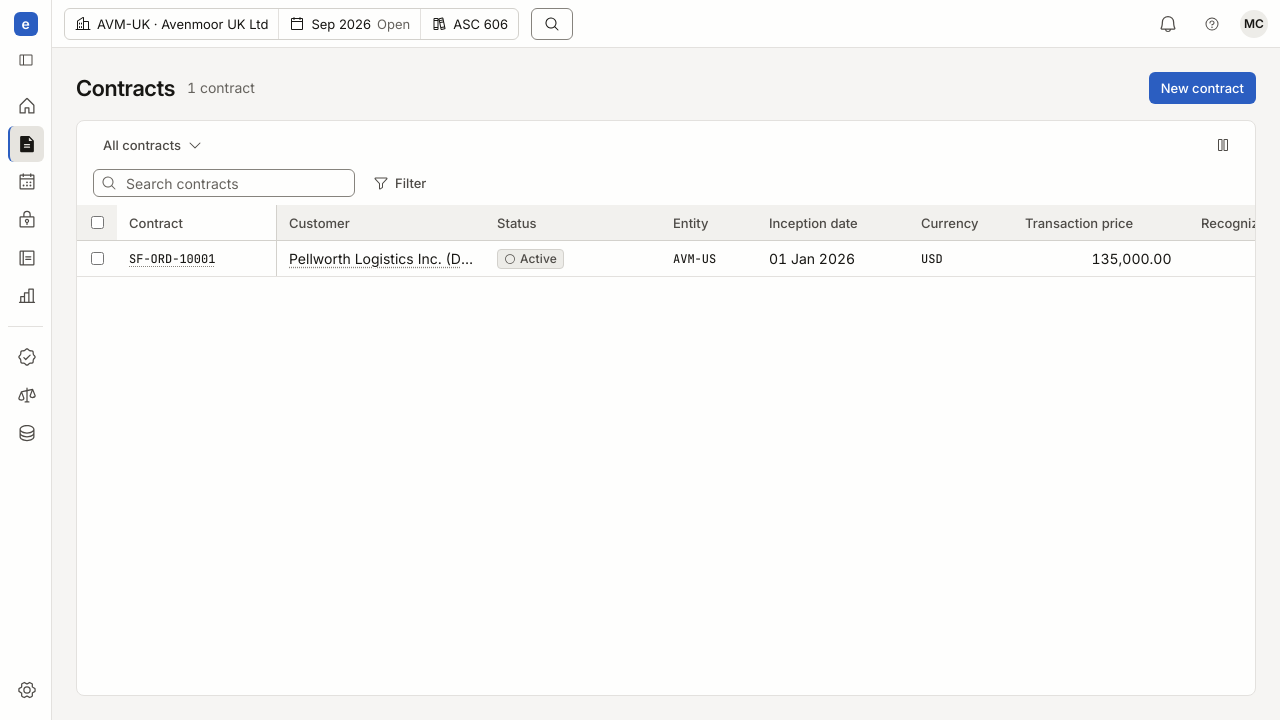
Test: SF-02 contracts list › the Status editor with one value writes f.status=is:ACTIVE and requests status=ACTIVE
Check: the element "SF-ORD-10001" is shown, box [117,241,277,276]
What coordinates should you click on to do the following:
click the button "Filter"
I would click on:
 (400, 183)
Its box is [363,169,436,197].
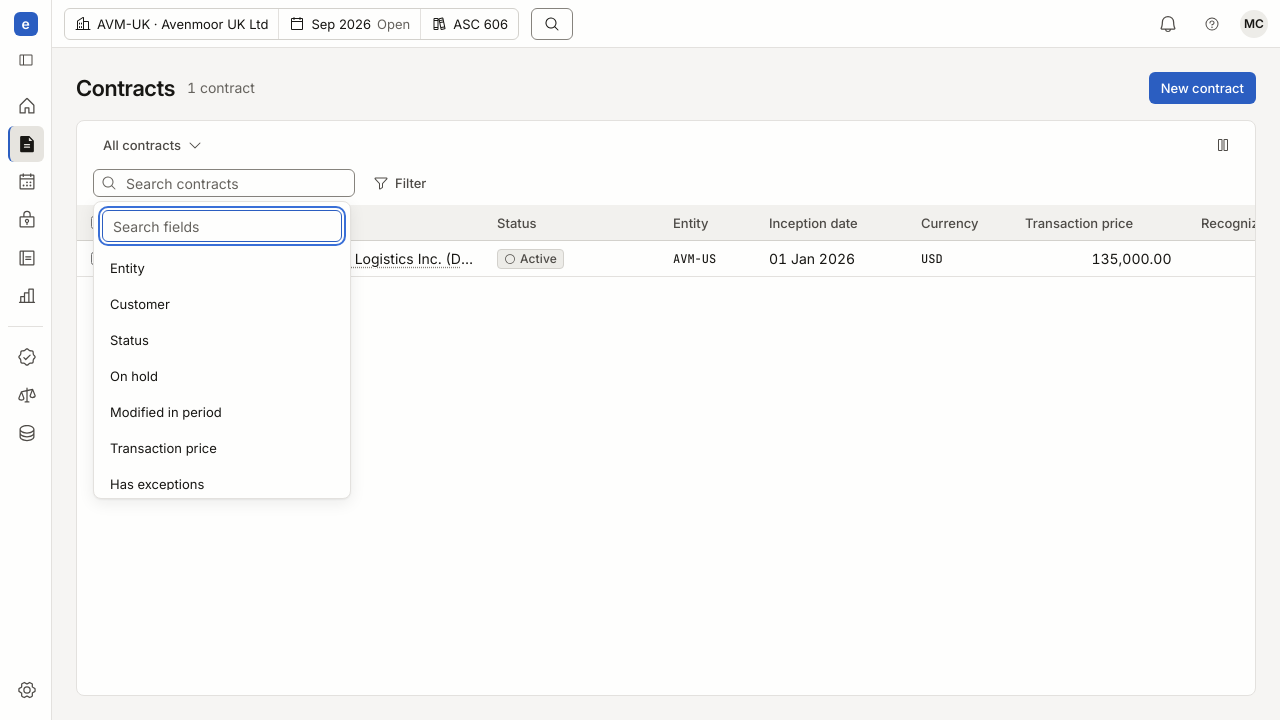
What coordinates should you click on to do the following:
click the button "Status"
I would click on:
 (222, 340)
Its box is [102,322,342,358].
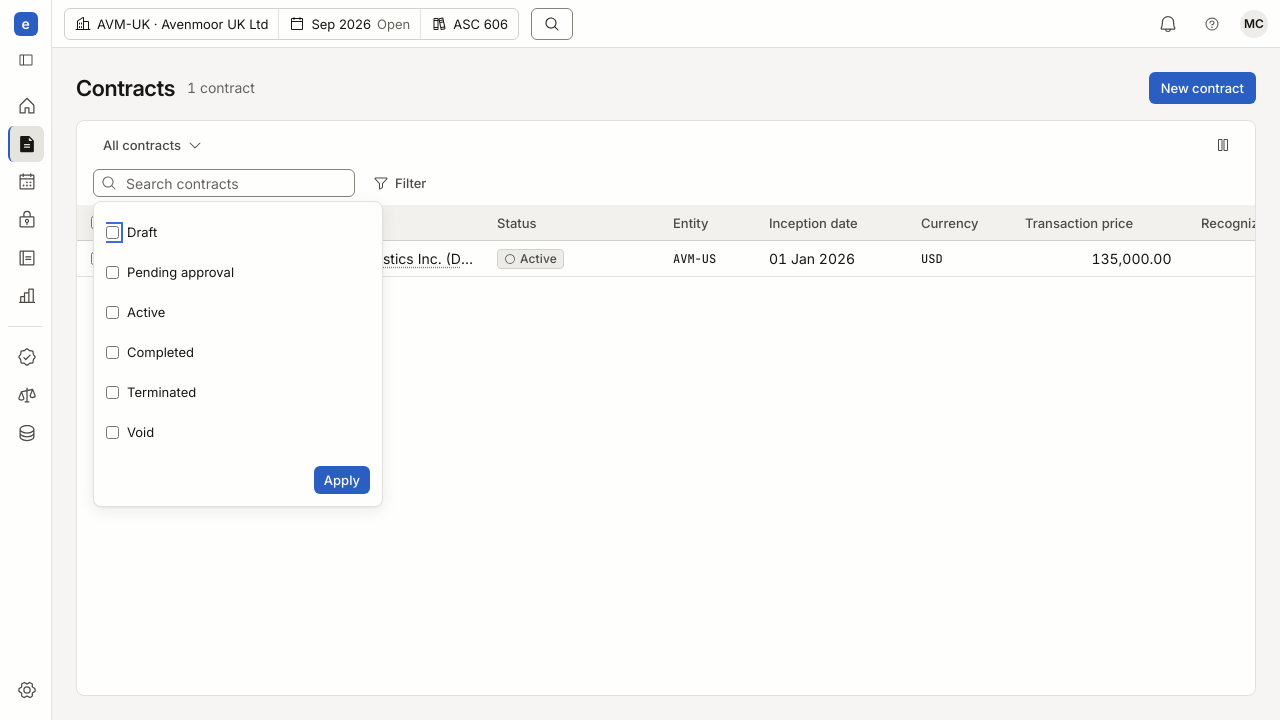
What coordinates should you click on to do the following:
click the checkbox labelled "Active"
I would click on:
 (112, 312)
Its box is [106,306,119,318].
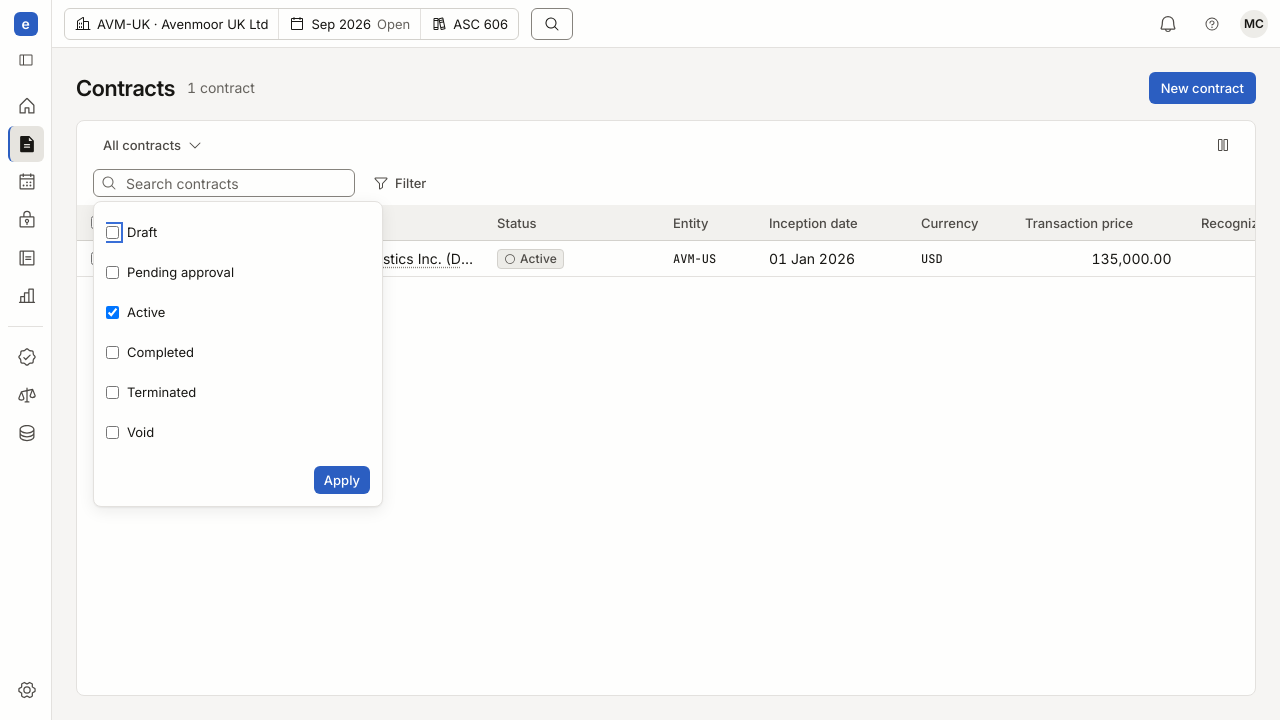
What coordinates should you click on to do the following:
click the button "Apply"
I would click on:
 (342, 480)
Its box is [314,466,370,494].
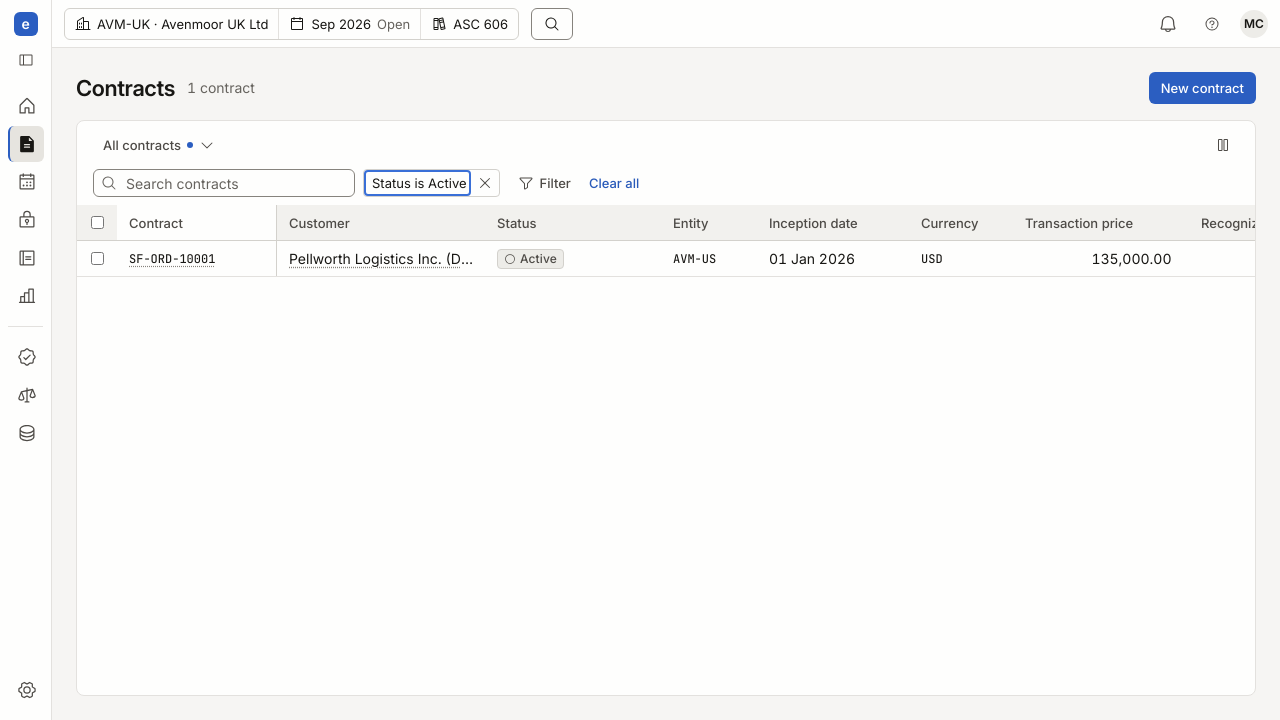
Check: the button with aria-label "Status is Active, edit filter" is shown, box [364,170,470,196]
